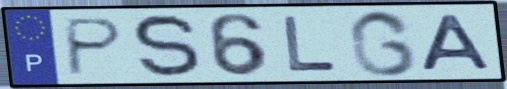6: (205, 11, 273, 79)
A: (418, 12, 495, 72)
G: (346, 8, 420, 79)
L: (281, 14, 340, 75)
P: (64, 16, 127, 78)
S: (130, 12, 205, 80)
